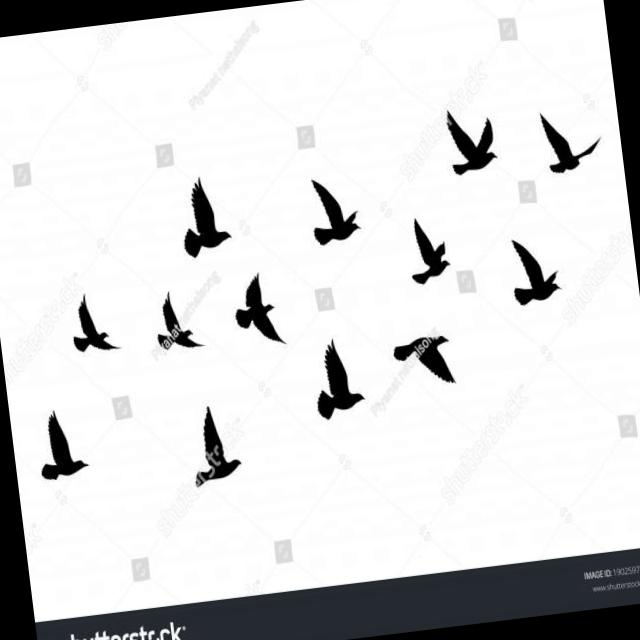bird: (303, 332, 374, 428), (526, 105, 606, 182), (168, 171, 238, 258), (215, 266, 283, 354), (437, 104, 508, 188), (188, 400, 251, 493), (387, 319, 466, 389), (143, 282, 208, 363), (28, 408, 98, 483), (504, 226, 566, 308), (404, 208, 464, 290), (304, 170, 369, 243), (58, 293, 119, 362)
